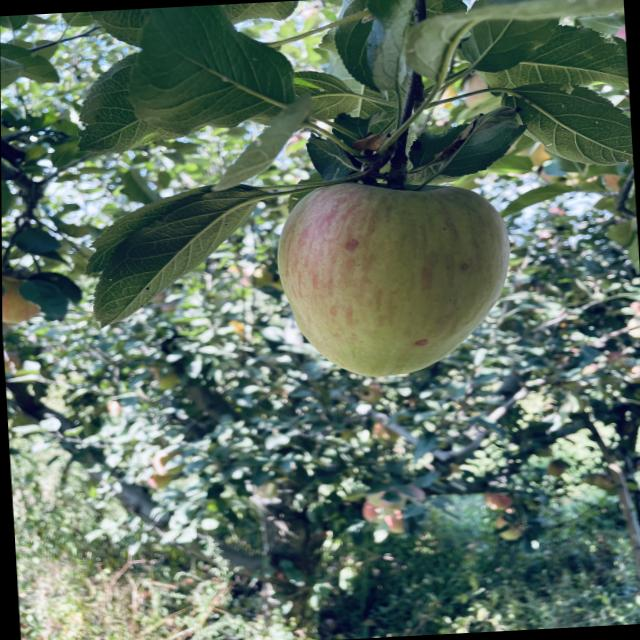Apple: (277, 183, 510, 377)
